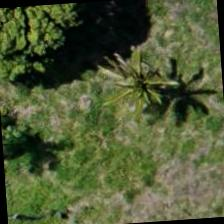Kelapa_Sawit: (96, 35, 192, 130)
